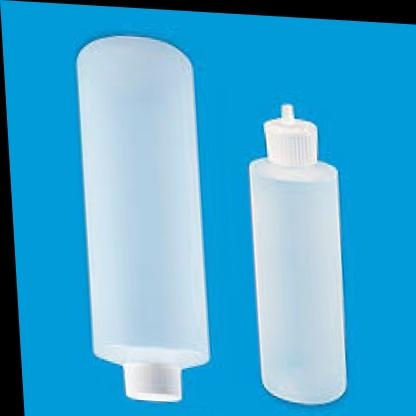trash: (77, 36, 209, 401), (250, 104, 345, 403)
